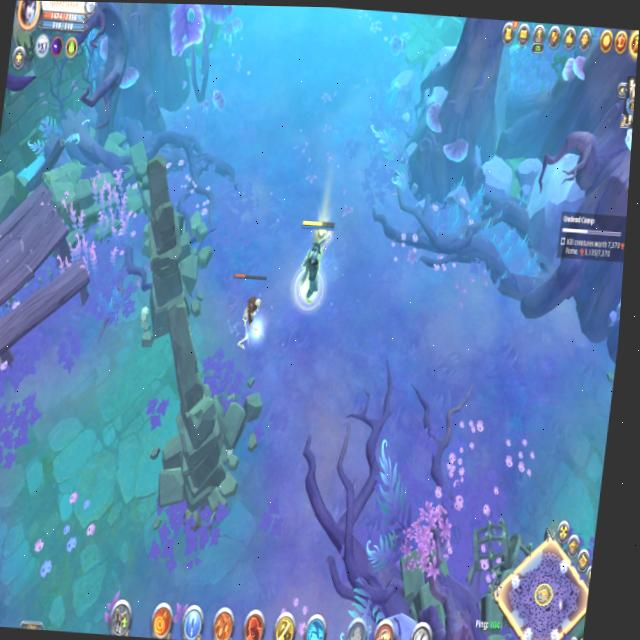red: (287, 207, 341, 317), (224, 266, 275, 352)
